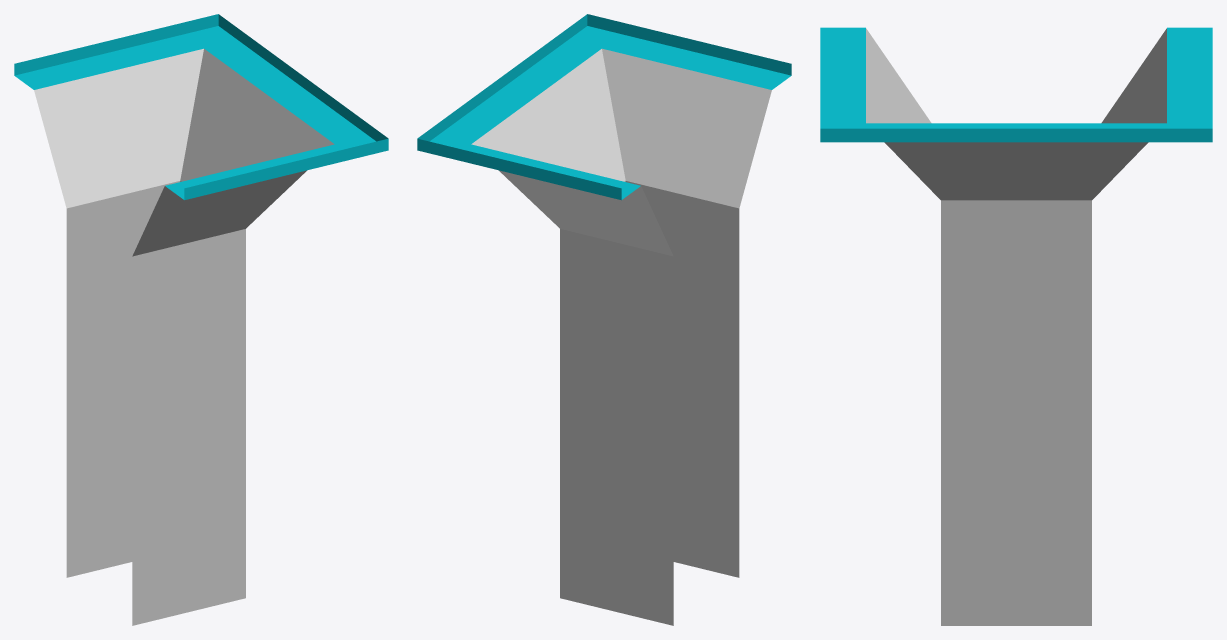
Rendered from Wall_C.fbx.
3 renders of one model, left to right at view 1: azimuth 30°, elevation 25°; view 2: azimuth 150°, elevation 25°; view 3: azimuth 270°, elevation 25°, orthographic. The views are drawn at different scales.
Visible parts, largest first — view 1: Wall_C; view 2: Wall_C; view 3: Wall_C.
Boxes of the visible parts, left/top/right/bottom form: Wall_C: left=14, top=14, right=388, bottom=625; Wall_C: left=417, top=14, right=791, bottom=625; Wall_C: left=820, top=27, right=1212, bottom=625.
Size of the model in its own units: 1.8 by 4 by 2.59.
